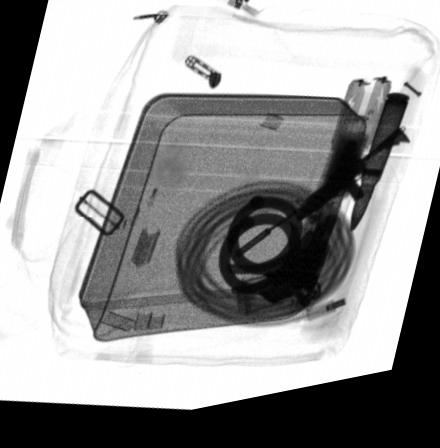Baton: (283, 91, 393, 322)
Bullet: (347, 107, 410, 245)
Gun: (228, 143, 414, 269)
HandCuffs: (216, 205, 322, 315)
